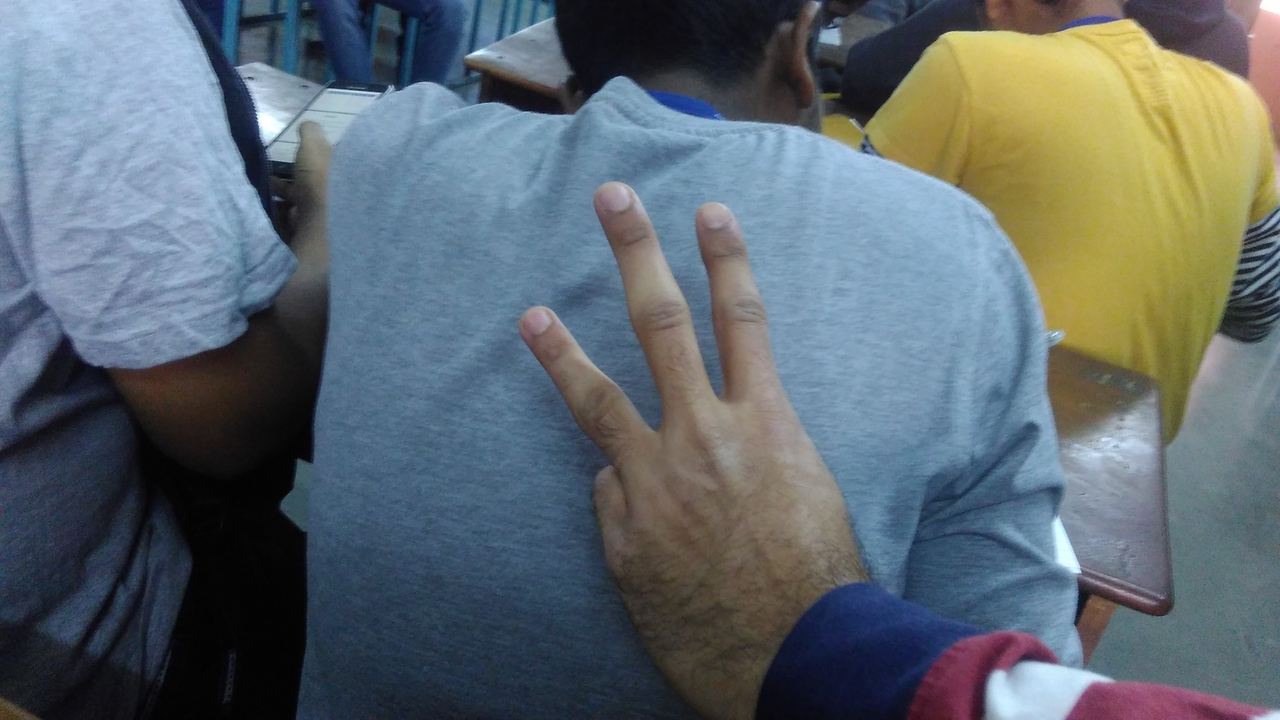fingertip: (584, 166, 650, 228), (688, 190, 748, 248), (510, 294, 570, 350)
